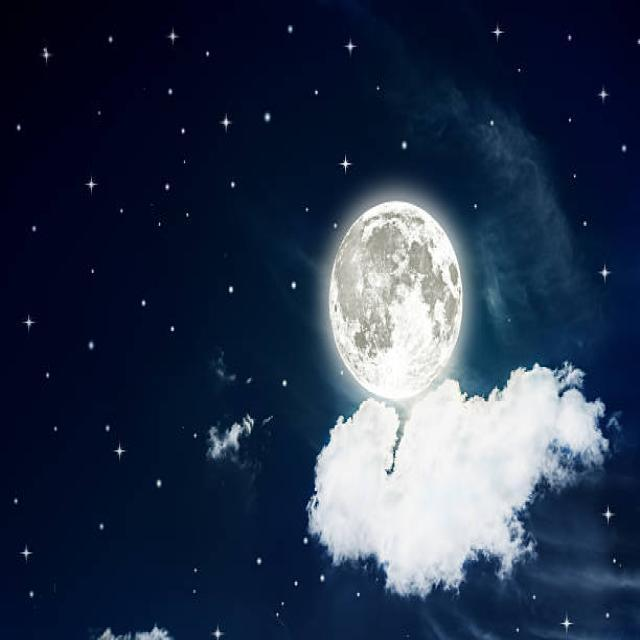moon: (332, 201, 462, 404)
